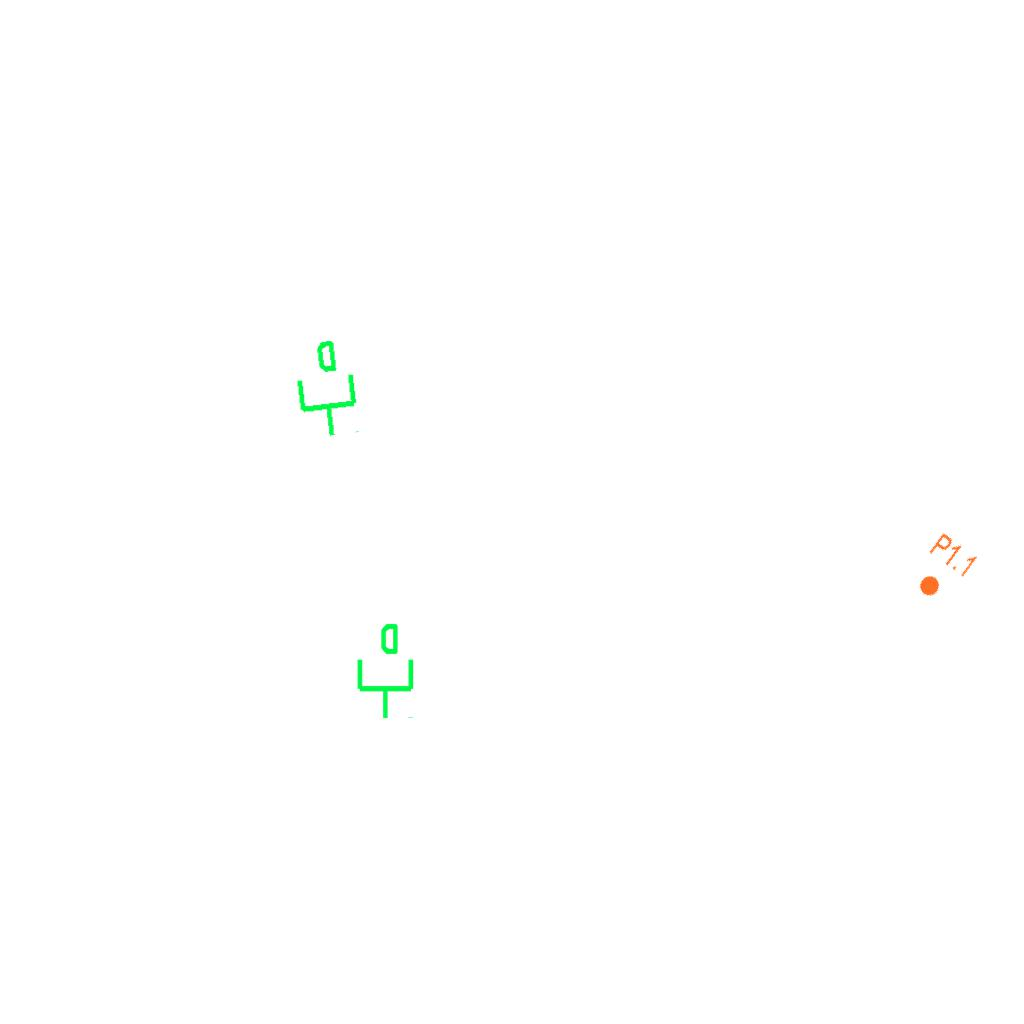Datenanschluss_einfach: (284, 335, 365, 443), (349, 621, 418, 721)
Downlight_LED_Einbauleuchten_Flur: (905, 530, 981, 610)
